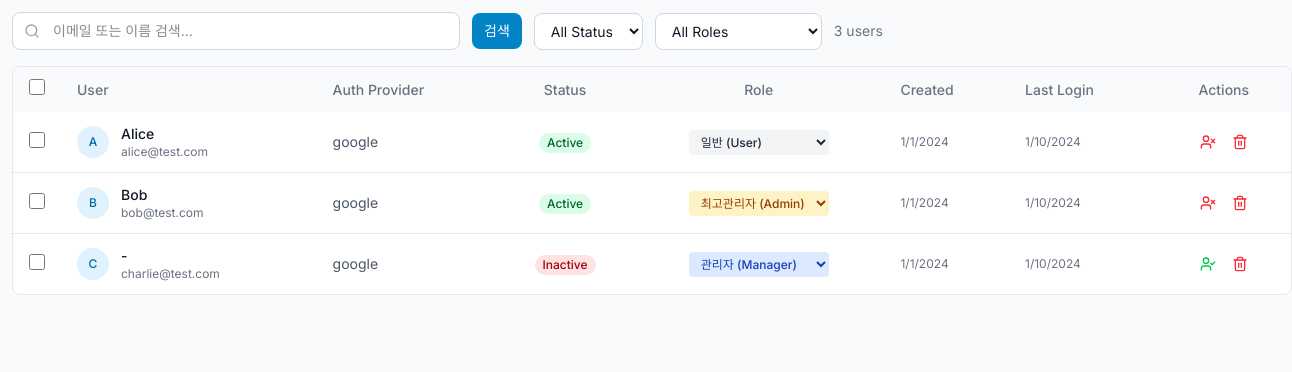
Test: UserManagementTab › shows generic message when role change fails with non-Error
The width and height of the screenshot is (1292, 372).
Select "최고관리자 (Admin)" in the dropdown showing "일반 (User)" in the row of "alice@test.com": (759, 142) [689,130,829,154]
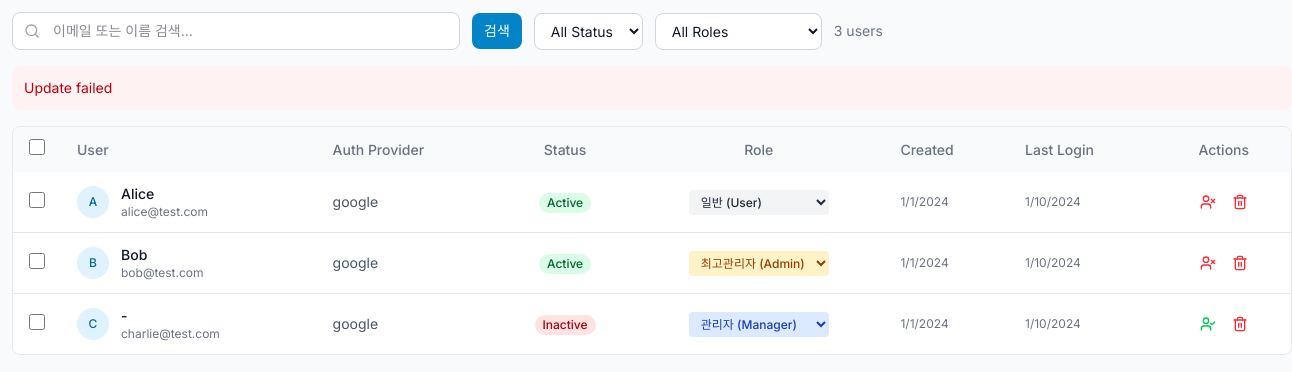
Expected: the text "Update failed" is shown, [12,66,1291,110]
